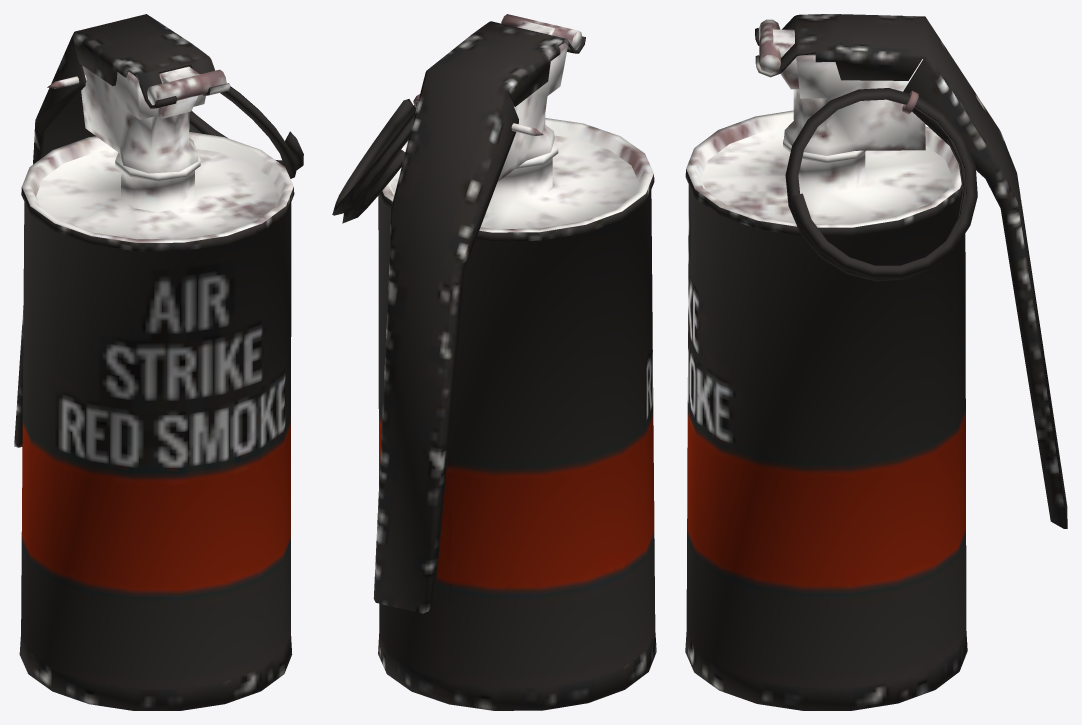
Rendered from Weapons_Grenades_AirStrikeGrenade_3P_LOD0.glb.
3 renders of one model, left to right at view 1: azimuth 30°, elevation 25°; view 2: azimuth 150°, elevation 25°; view 3: azimuth 270°, elevation 25°, orthographic. The views are drawn at different scales.
Visible parts, largest first — view 1: Hoodie; view 2: Hoodie; view 3: Hoodie.
Boxes of the visible parts, <box> form: Hoodie: <box>14,14,303,710</box>; Hoodie: <box>332,14,656,710</box>; Hoodie: <box>685,14,1067,710</box>.
Bounding box in the file's own units: 0.0624 × 0.1354 × 0.0756.
Materials: 1 (1 with a texture image).
